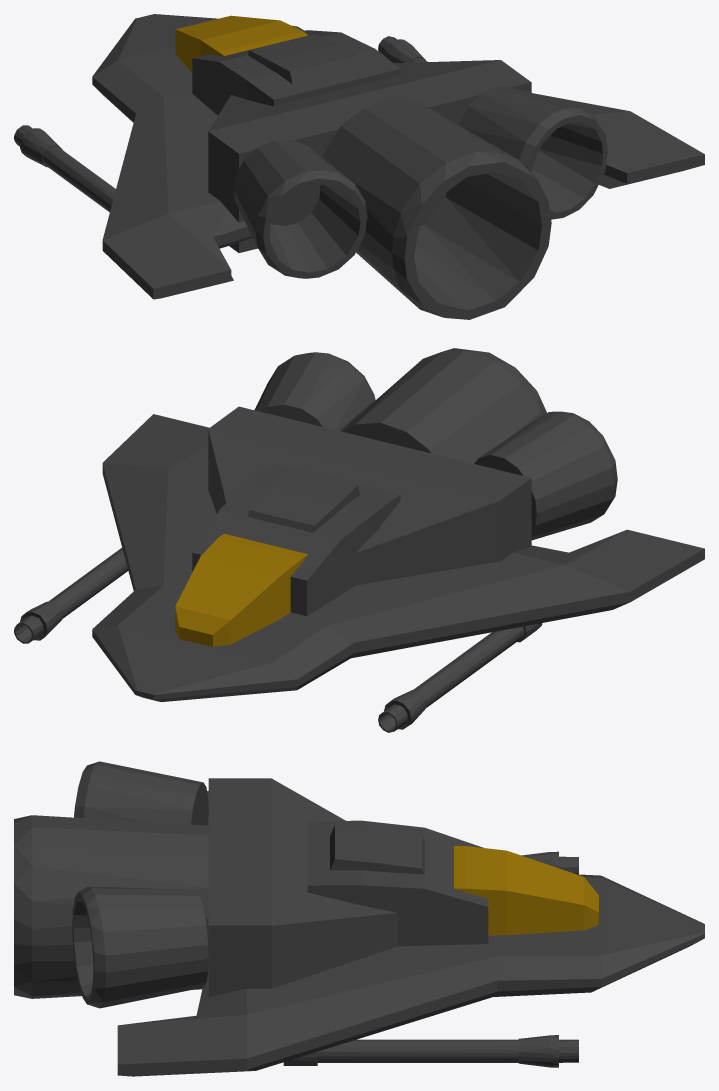
The model's file is Nave.fbx.
3 views of the same model, one above another, from view 1: azimuth 30°, elevation 25°; view 2: azimuth 150°, elevation 25°; view 3: azimuth 270°, elevation 25° (orthographic). The views are drawn at different scales.
Visible parts, largest first — view 1: Propulsor principal, Base de la nave, Propulsor secundario 1, Base de los propulsores, Base de la cápsula, Cápsula, Cañon principal, Detalle de la base de la cápsula; view 2: Base de la nave, Base de los propulsores, Propulsor secundario 1, Propulsor principal, Base de la cápsula, Cápsula, Cañon principal, Detalle de la base de la cápsula; view 3: Base de la nave, Base de los propulsores, Propulsor secundario 1, Propulsor principal, Base de la cápsula, Cápsula, Cañon principal, Detalle de la base de la cápsula.
Part boxes in pixels (left/top/right/bottom): Propulsor principal: left=322, top=98, right=551, bottom=319; Base de la nave: left=92, top=14, right=704, bottom=299; Propulsor secundario 1: left=233, top=86, right=607, bottom=278; Base de los propulsores: left=208, top=60, right=531, bottom=252; Base de la cápsula: left=192, top=30, right=400, bottom=115; Cápsula: left=175, top=15, right=307, bottom=72; Cañon principal: left=14, top=36, right=427, bottom=212; Detalle de la base de la cápsula: left=248, top=34, right=360, bottom=84; Base de la nave: left=92, top=414, right=704, bottom=701; Base de los propulsores: left=208, top=406, right=531, bottom=585; Propulsor secundario 1: left=254, top=352, right=617, bottom=540; Propulsor principal: left=341, top=348, right=546, bottom=463; Base de la cápsula: left=192, top=463, right=400, bottom=616; Cápsula: left=175, top=533, right=307, bottom=646; Cañon principal: left=14, top=548, right=542, bottom=732; Detalle de la base de la cápsula: left=248, top=469, right=360, bottom=532; Base de la nave: left=117, top=791, right=704, bottom=1076; Base de los propulsores: left=208, top=778, right=397, bottom=997; Propulsor secundario 1: left=72, top=761, right=208, bottom=1008; Propulsor principal: left=14, top=815, right=208, bottom=998; Base de la cápsula: left=307, top=820, right=488, bottom=946; Cápsula: left=454, top=846, right=598, bottom=935; Cañon principal: left=283, top=851, right=578, bottom=1067; Detalle de la base de la cápsula: left=330, top=825, right=424, bottom=874.
Bounding box in the file's own units: 1161 × 325 × 1220.
